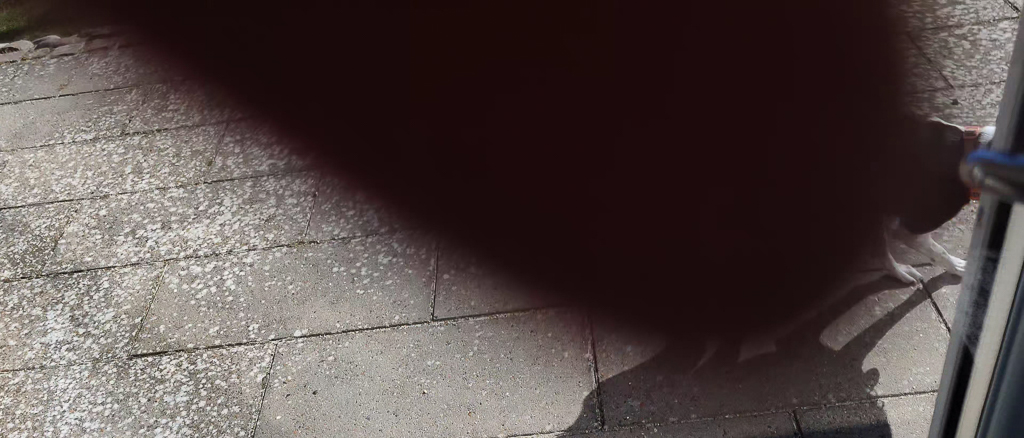Dog: (851, 89, 1024, 304)
Humanoid: (12, 0, 966, 381)
